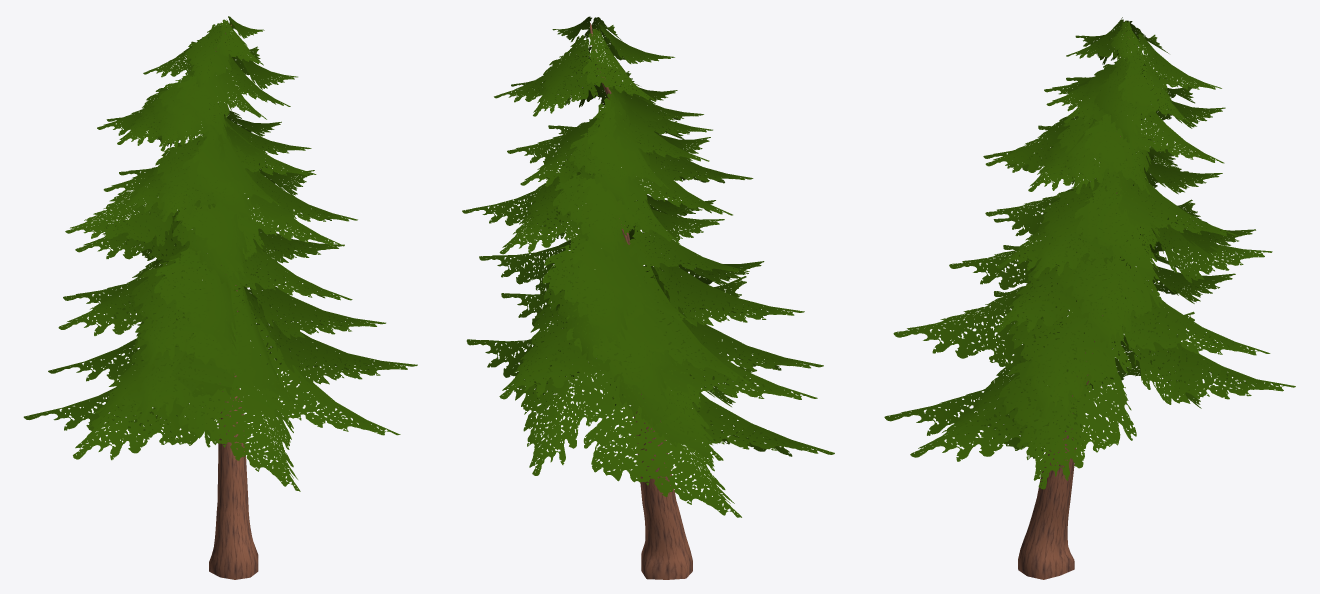
The model's file is Pine_5.gltf.
3 views of the same model, side by side, from view 1: azimuth 30°, elevation 25°; view 2: azimuth 150°, elevation 25°; view 3: azimuth 270°, elevation 25° (orthographic). The views are drawn at different scales.
Parts seen in each view (by area): view 1: Pine_5; view 2: Pine_5; view 3: Pine_5.
Boxes of the visible parts, x1,y1,x2,y2 form: Pine_5: [23, 16, 417, 579]; Pine_5: [462, 16, 834, 579]; Pine_5: [884, 17, 1295, 579].
Size of the model in its own units: 6.42 by 9.03 by 6.22.
Materials: 2 (2 with a texture image).
